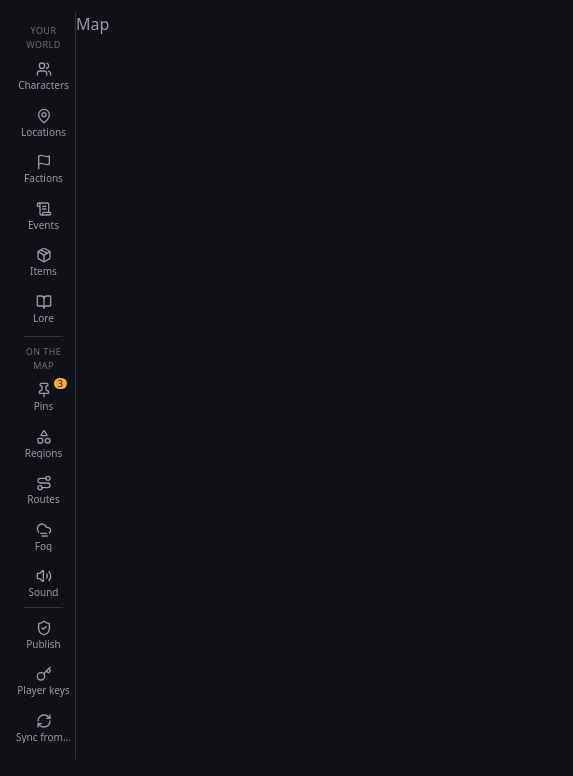
editor shell rehost › clicking the active button again closes the panel (toggle)
The image size is (573, 776).
Click the button "Pins 3". click: (44, 397)
box: [12,374,75,420]
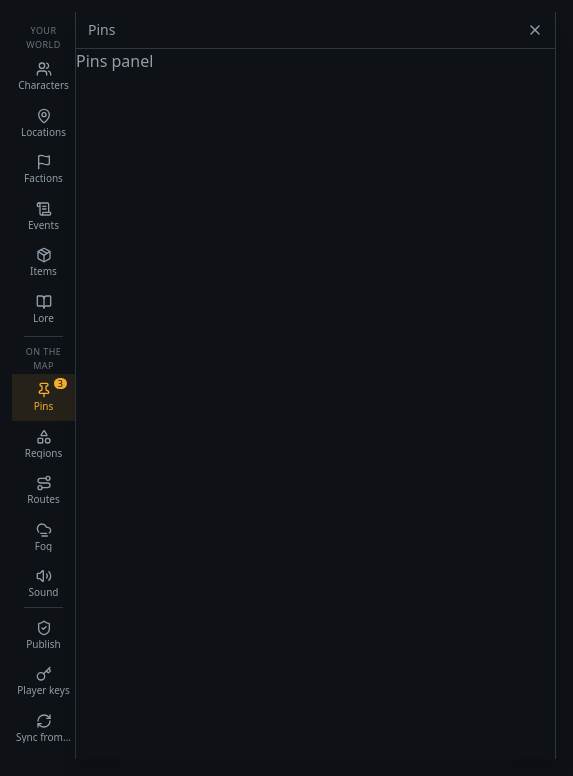
Expected: the element with test id "panel" is shown
Click the button "Pins 3". click: (44, 397)
box: [12,374,75,420]
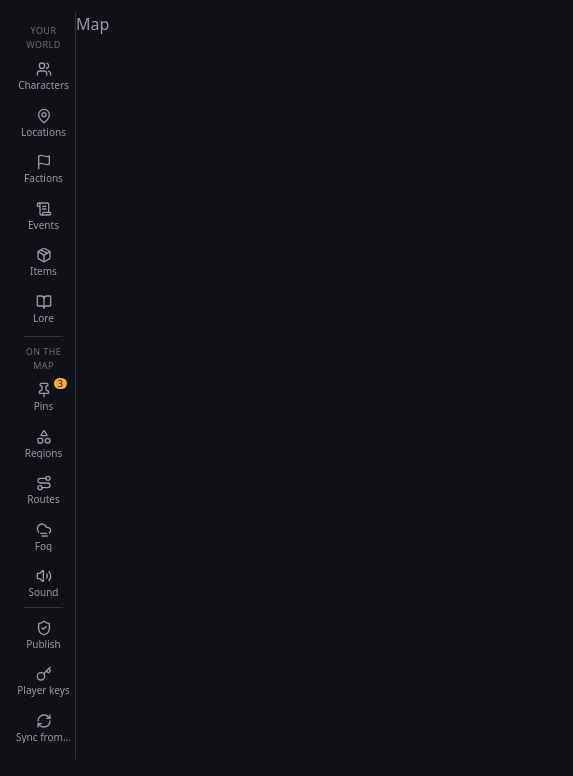
Expected: the button with test id "panel" is gone
